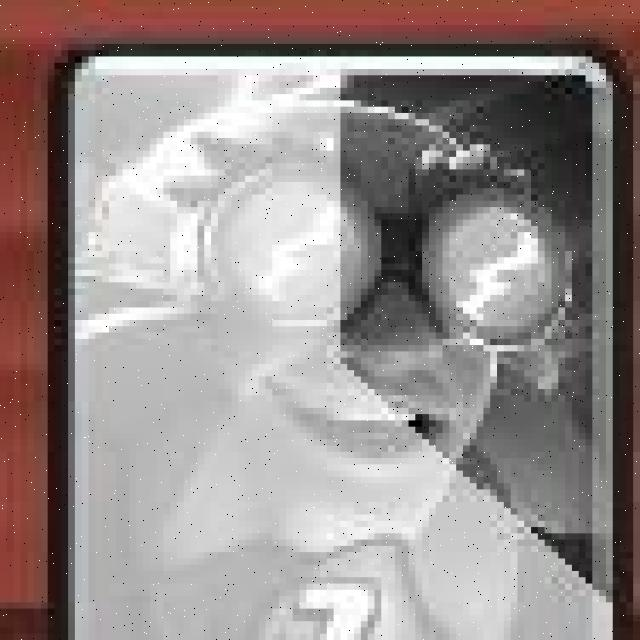Electro_Giant: (46, 41, 617, 640)
